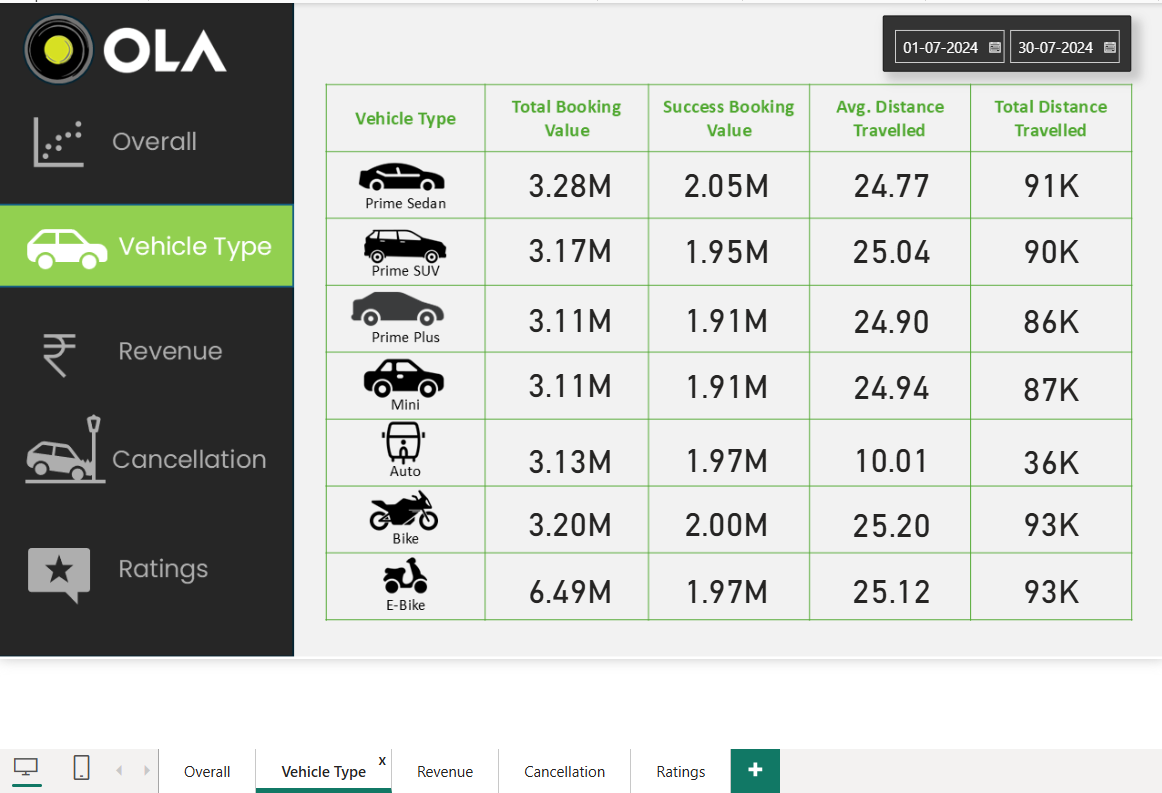

The page's visual inventory and layout, read from the dashboard file:
{"tool":"powerbi","page":{"name":"Vehicle Type","canvas":[1280,720],"ordinal":1},"visuals":[{"type":"actionButton","box":[0,224.4,324.5,90.5],"z":0},{"type":"actionButton","box":[0,345,324.5,85.7],"z":1000},{"type":"actionButton","box":[0,442.8,324.5,114.6],"z":2000},{"type":"actionButton","box":[0,569.4,324.5,101.3],"z":3000},{"type":"actionButton","box":[0,108.6,324.5,102.5],"z":4000},{"type":"card","fields":{"Values":["Sum(July.Booking_Value)"]},"box":[555.7,168.8,142.7,56.3],"z":5000},{"type":"card","fields":{"Values":["Sum(July.Booking_Value)"]},"box":[555.7,240.1,142.7,56.3],"z":6000},{"type":"card","fields":{"Values":["Sum(July.Booking_Value)"]},"box":[555.7,317,142.7,56.3],"z":7000},{"type":"card","fields":{"Values":["Sum(July.Booking_Value)"]},"box":[555.7,388.3,142.7,56.3],"z":8000},{"type":"card","fields":{"Values":["Sum(July.Booking_Value)"]},"box":[555.7,472,142.7,56.3],"z":9000},{"type":"card","fields":{"Values":["Sum(July.Booking_Value)"]},"box":[555.7,540.7,142.7,56.3],"z":10000},{"type":"card","fields":{"Values":["Sum(July.Booking_Value)"]},"box":[555.7,614.8,142.7,56.3],"z":11000},{"type":"card","fields":{"Values":["Sum(July.Booking_Value)"]},"box":[727.3,168.8,142.7,56.3],"z":12000},{"type":"card","fields":{"Values":["Sum(July.Booking_Value)"]},"box":[727.3,241.5,142.7,56.3],"z":13000},{"type":"card","fields":{"Values":["Sum(July.Booking_Value)"]},"box":[727.3,317,142.7,56.3],"z":14000},{"type":"card","fields":{"Values":["Sum(July.Booking_Value)"]},"box":[727.3,389.7,142.7,56.3],"z":15000},{"type":"card","fields":{"Values":["Sum(July.Booking_Value)"]},"box":[727.3,470.7,142.7,56.3],"z":16000},{"type":"card","fields":{"Values":["Sum(July.Booking_Value)"]},"box":[727.3,540.7,142.7,56.3],"z":17000},{"type":"card","fields":{"Values":["Sum(July.Booking_Value)"]},"box":[727.3,614.8,142.7,56.3],"z":18000},{"type":"card","fields":{"Values":["Avg(July.Ride_Distance)"]},"box":[908.4,168.8,142.7,56.3],"z":19000},{"type":"card","fields":{"Values":["Avg(July.Ride_Distance)"]},"box":[908.4,241.5,142.7,56.3],"z":20000},{"type":"card","fields":{"Values":["Avg(July.Ride_Distance)"]},"box":[908.4,318.4,142.7,56.3],"z":21000},{"type":"card","fields":{"Values":["Avg(July.Ride_Distance)"]},"box":[908.4,391.1,142.7,56.3],"z":22000},{"type":"card","fields":{"Values":["Avg(July.Ride_Distance)"]},"box":[908.4,614.8,142.7,56.3],"z":23000},{"type":"card","fields":{"Values":["Avg(July.Ride_Distance)"]},"box":[908.4,470.7,142.7,56.3],"z":24000},{"type":"card","fields":{"Values":["Avg(July.Ride_Distance)"]},"box":[908.4,542,142.7,56.3],"z":25000},{"type":"card","fields":{"Values":["Sum(July.Ride_Distance)"]},"box":[1084.1,168.8,142.7,56.3],"z":26000},{"type":"card","fields":{"Values":["Sum(July.Ride_Distance)"]},"box":[1084.1,241.5,142.7,56.3],"z":27000},{"type":"card","fields":{"Values":["Sum(July.Ride_Distance)"]},"box":[1084.1,318.4,142.7,56.3],"z":28000},{"type":"card","fields":{"Values":["Sum(July.Ride_Distance)"]},"box":[1084.1,392.5,142.7,56.3],"z":29000},{"type":"card","fields":{"Values":["Sum(July.Ride_Distance)"]},"box":[1084.1,473.4,142.7,56.3],"z":30000},{"type":"card","fields":{"Values":["Sum(July.Ride_Distance)"]},"box":[1084.1,540.7,142.7,56.3],"z":31000},{"type":"card","fields":{"Values":["Sum(July.Ride_Distance)"]},"box":[1084.1,614.8,142.7,56.3],"z":32000},{"type":"slicer","title":"Date","fields":{"Values":["July.Date"]},"box":[970.2,13.7,273.1,61.7],"z":33000}]}

Visuals, with their boxes on the page's 1280x720 design canvas (x1, y1, x2, y2). These are canvas units, not pixel positions in the 1162x793 screenshot, which may show the page scaled, cropped or inside an application window:
actionButton: bbox=[0, 224, 324, 315]
actionButton: bbox=[0, 345, 324, 431]
actionButton: bbox=[0, 443, 324, 557]
actionButton: bbox=[0, 569, 324, 671]
actionButton: bbox=[0, 109, 324, 211]
card - Sum(July.Booking_Value): bbox=[556, 169, 698, 225]
card - Sum(July.Booking_Value): bbox=[556, 240, 698, 296]
card - Sum(July.Booking_Value): bbox=[556, 317, 698, 373]
card - Sum(July.Booking_Value): bbox=[556, 388, 698, 445]
card - Sum(July.Booking_Value): bbox=[556, 472, 698, 528]
card - Sum(July.Booking_Value): bbox=[556, 541, 698, 597]
card - Sum(July.Booking_Value): bbox=[556, 615, 698, 671]
card - Sum(July.Booking_Value): bbox=[727, 169, 870, 225]
card - Sum(July.Booking_Value): bbox=[727, 242, 870, 298]
card - Sum(July.Booking_Value): bbox=[727, 317, 870, 373]
card - Sum(July.Booking_Value): bbox=[727, 390, 870, 446]
card - Sum(July.Booking_Value): bbox=[727, 471, 870, 527]
card - Sum(July.Booking_Value): bbox=[727, 541, 870, 597]
card - Sum(July.Booking_Value): bbox=[727, 615, 870, 671]
card - Avg(July.Ride_Distance): bbox=[908, 169, 1051, 225]
card - Avg(July.Ride_Distance): bbox=[908, 242, 1051, 298]
card - Avg(July.Ride_Distance): bbox=[908, 318, 1051, 375]
card - Avg(July.Ride_Distance): bbox=[908, 391, 1051, 447]
card - Avg(July.Ride_Distance): bbox=[908, 615, 1051, 671]
card - Avg(July.Ride_Distance): bbox=[908, 471, 1051, 527]
card - Avg(July.Ride_Distance): bbox=[908, 542, 1051, 598]
card - Sum(July.Ride_Distance): bbox=[1084, 169, 1227, 225]
card - Sum(July.Ride_Distance): bbox=[1084, 242, 1227, 298]
card - Sum(July.Ride_Distance): bbox=[1084, 318, 1227, 375]
card - Sum(July.Ride_Distance): bbox=[1084, 392, 1227, 449]
card - Sum(July.Ride_Distance): bbox=[1084, 473, 1227, 530]
card - Sum(July.Ride_Distance): bbox=[1084, 541, 1227, 597]
card - Sum(July.Ride_Distance): bbox=[1084, 615, 1227, 671]
"Date" slicer: bbox=[970, 14, 1243, 75]
